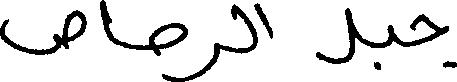X: (0, 5, 84, 59), (411, 9, 456, 72), (314, 3, 353, 68), (149, 18, 186, 81), (233, 0, 256, 58), (188, 38, 217, 81), (258, 0, 272, 43), (99, 0, 110, 45), (387, 20, 394, 50)
